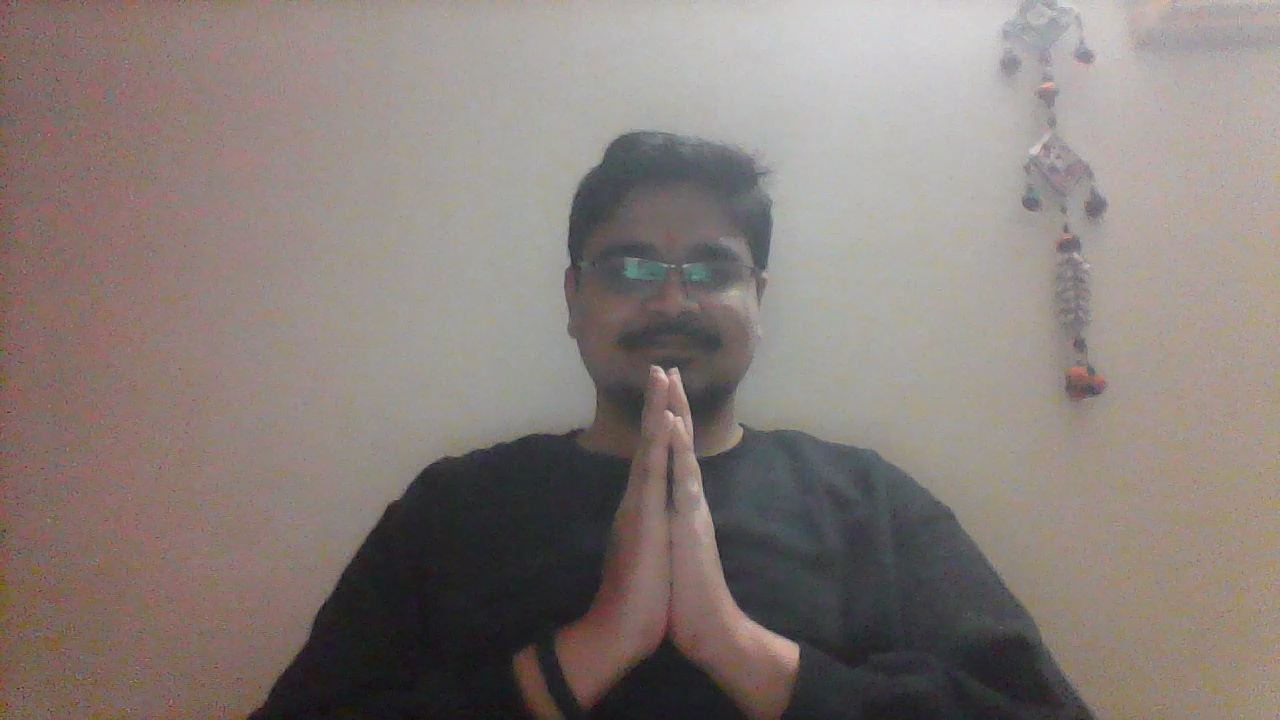Namaste: (567, 362, 775, 693)
